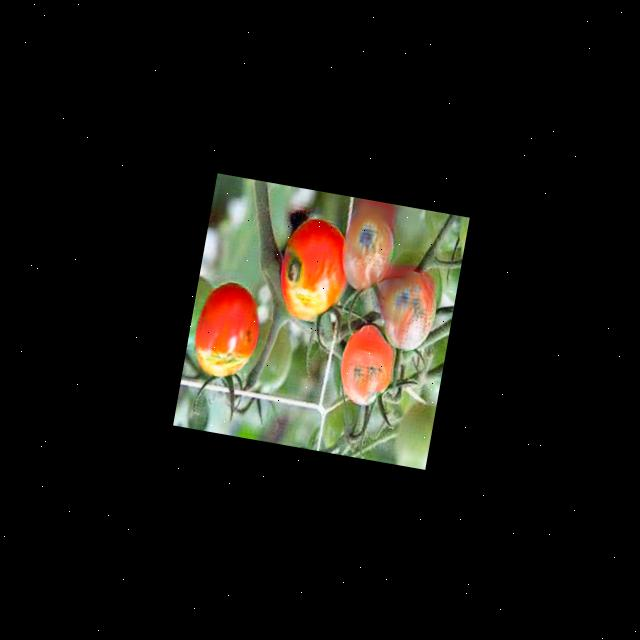tomato: (271, 210, 355, 324), (186, 276, 266, 382), (376, 266, 442, 352), (333, 323, 400, 407), (337, 208, 397, 292)
